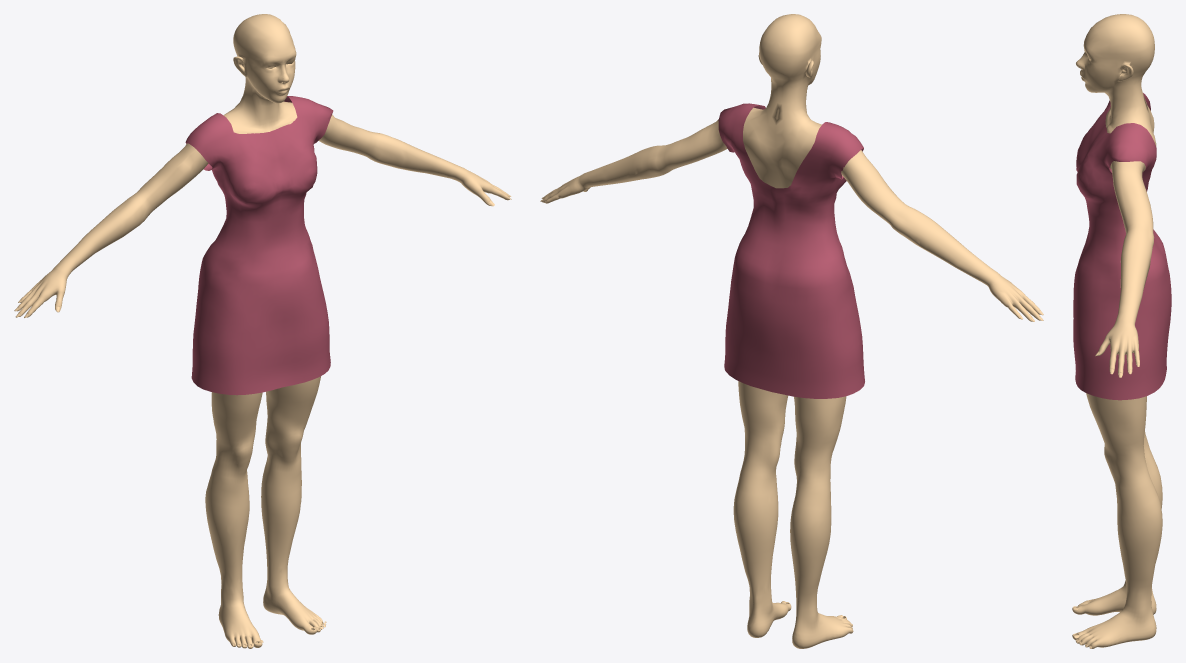
File: dress7.glb
The picture shows the model from 3 angles, left to right: view 1: azimuth 30°, elevation 25°; view 2: azimuth 150°, elevation 25°; view 3: azimuth 270°, elevation 25°; orthographic projection.
Parts seen in each view (by area): view 1: Body, Jennifer.F_Dress_01; view 2: Body, Jennifer.F_Dress_01; view 3: Body, Jennifer.F_Dress_01.
Part boxes in pixels (x1=…): Body: x1=17, y1=14, x2=511, y2=648; Jennifer.F_Dress_01: x1=185, y1=96, x2=333, y2=395; Body: x1=541, y1=14, x2=1041, y2=648; Jennifer.F_Dress_01: x1=718, y1=103, x2=864, y2=398; Body: x1=1072, y1=14, x2=1162, y2=648; Jennifer.F_Dress_01: x1=1073, y1=93, x2=1171, y2=400.
Bounding box in the file's own units: 1.58 × 1.85 × 0.2723.
